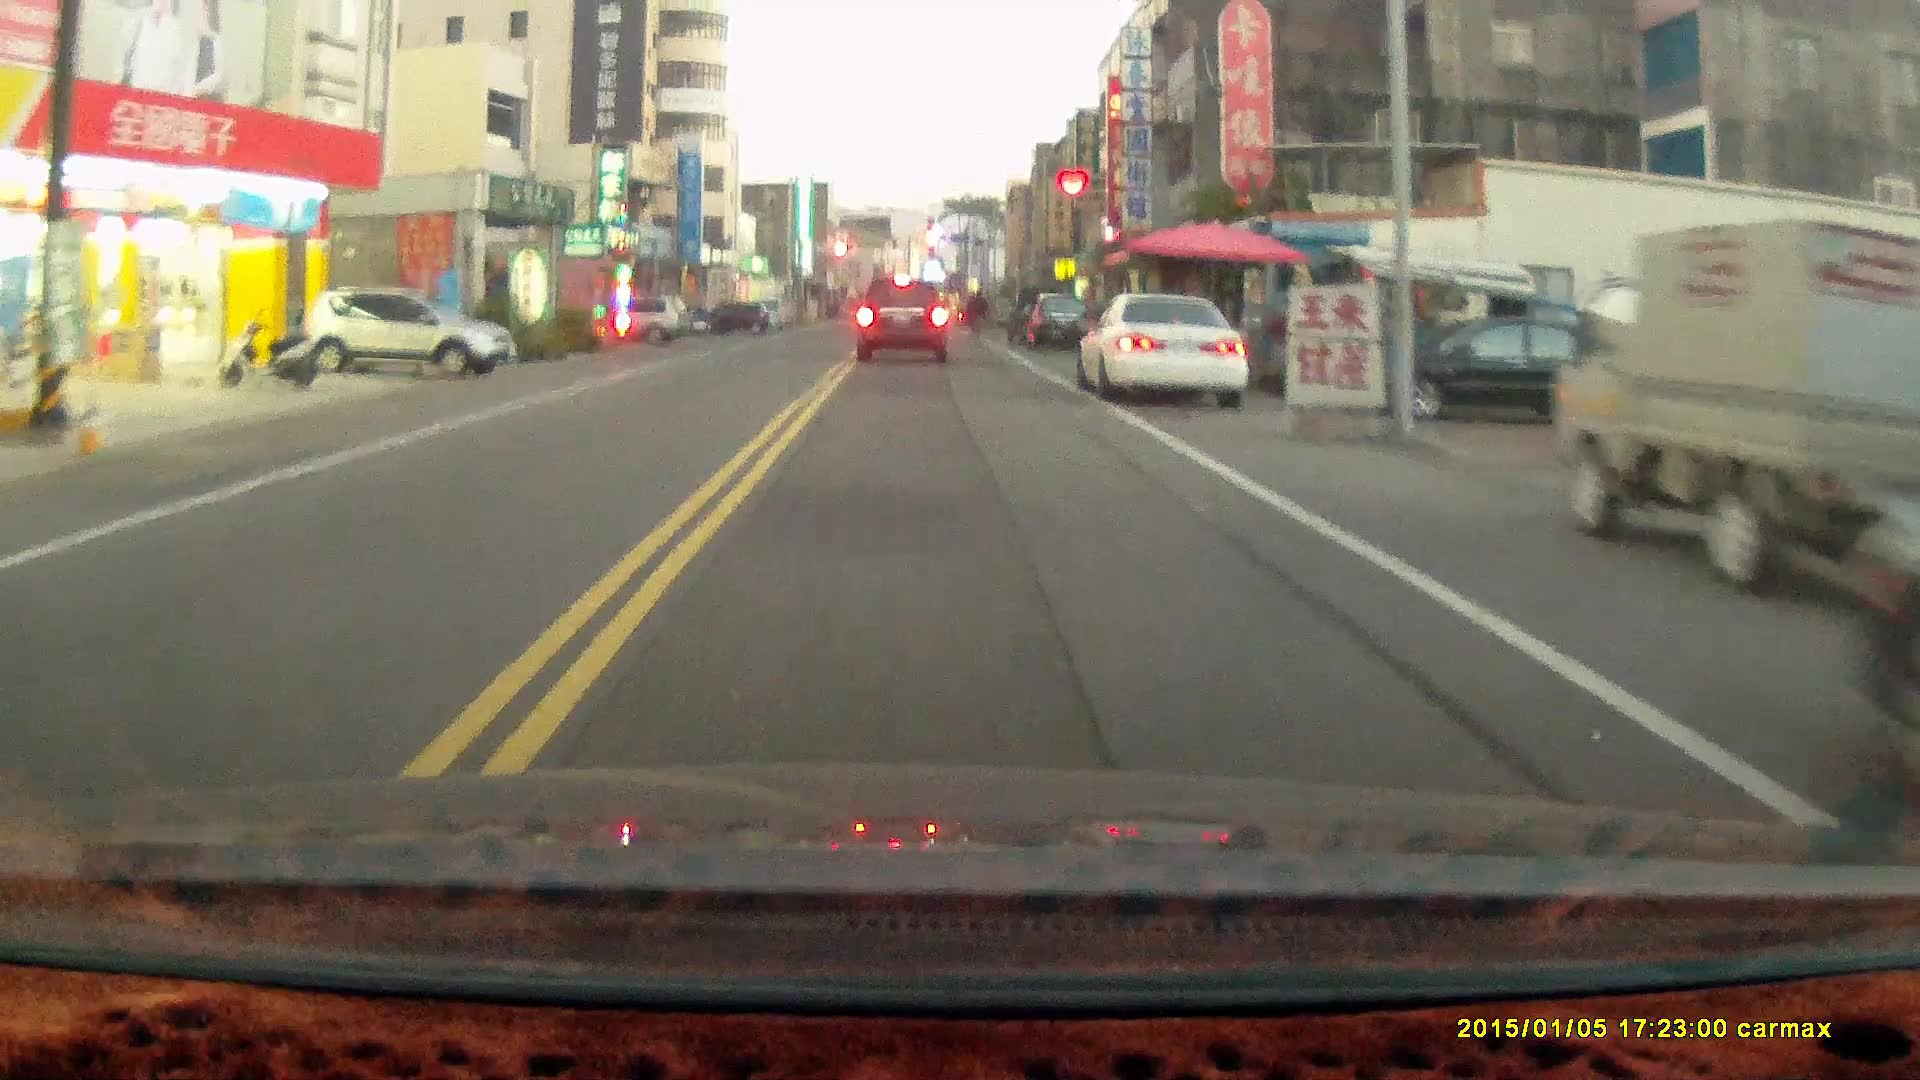rider: (967, 291, 988, 340)
vehicle: (1557, 217, 1920, 602), (1348, 310, 1663, 434), (1081, 293, 1251, 412), (294, 286, 512, 378), (852, 277, 952, 367), (594, 294, 693, 342), (1023, 297, 1096, 354)
